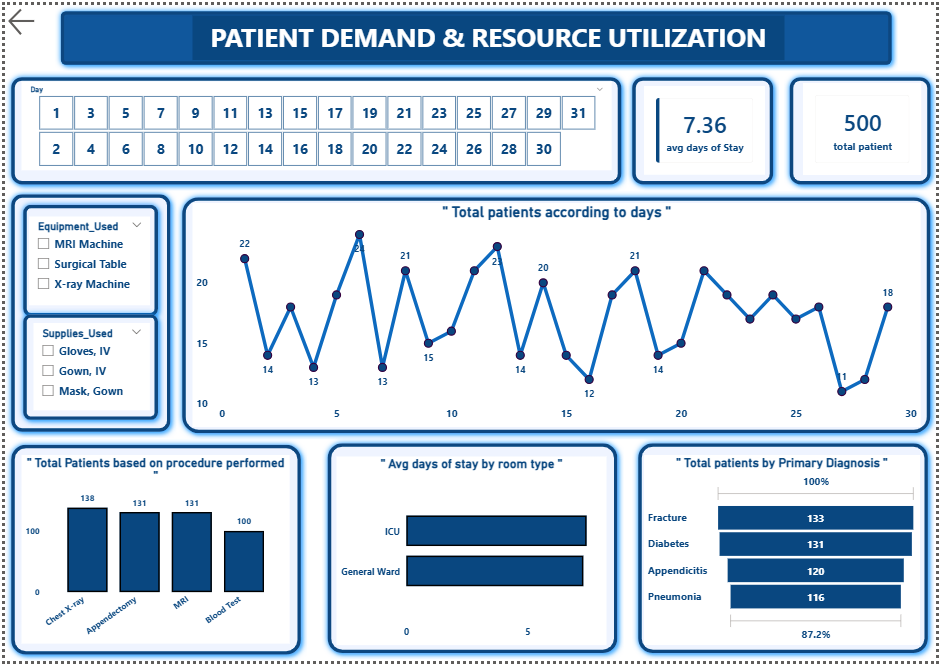

This screenshot's page, from the dashboard's own definition file:
{"tool":"powerbi","page":{"name":"Patient","canvas":[1350,950],"ordinal":2},"visuals":[{"type":"shape","box":[0,264.4,248.9,362.2],"z":0},{"type":"shape","box":[908.9,626.7,437.8,322.2],"z":1000},{"type":"shape","box":[457.8,626.7,437.8,322.2],"z":2000},{"type":"shape","box":[0,628.9,437.8,322.2],"z":3000},{"type":"shape","box":[248.9,268.9,1102.2,360],"z":4000},{"type":"shape","box":[1128.9,95.6,222.2,173.3],"z":5000},{"type":"shape","box":[900,95.6,222.2,173.3],"z":6000},{"type":"shape","box":[0,95.6,902.2,173.3],"z":7000},{"type":"cardVisual","fields":{"Data":["Petient_data.total patient"]},"box":[1155.6,113.3,171.1,133.3],"z":8000},{"type":"cardVisual","fields":{"Data":["Petient_data.avg days of Stay"]},"box":[926.7,117.8,175.6,128.9],"z":9000},{"type":"columnChart","title":"\" Total Patients based on procedure performed \"","fields":{"Category":["Petient_data.Procedure_Performed"],"Y":["Petient_data.total patient"]},"box":[24.4,651.1,388.9,273.3],"z":10000},{"type":"barChart","title":"\" Avg days of stay by room type \"","fields":{"Category":["Petient_data.Room_Type"],"Y":["Petient_data.avg days of Stay"]},"box":[480,653.3,391.1,273.3],"z":11000},{"type":"funnel","title":" \" Total patients by Primary Diagnosis \"","fields":{"Category":["Petient_data.Primary_Diagnosis"],"Y":["Petient_data.total patient"]},"box":[926.7,651.1,400,275.6],"z":12000},{"type":"lineChart","title":"\" Total patients according to days \"","fields":{"Y":["Petient_data.total patient"],"Category":["Petient_data.Admission_Date.Variation.Date Hierarchy.Day"]},"box":[271.1,286.7,1055.6,324.4],"z":13000},{"type":"slicer","fields":{"Values":["Petient_data.Admission_Date.Variation.Date Hierarchy.Day"]},"box":[24.4,111.1,855.6,128.9],"z":14000},{"type":"shape","box":[17.8,280,213.3,180],"z":15000},{"type":"shape","box":[17.8,440,213.3,171.1],"z":16000},{"type":"slicer","fields":{"Values":["Petient_data.Supplies_Used"]},"box":[42.2,460,168.9,126.7],"z":17000},{"type":"slicer","fields":{"Values":["Petient_data.Equipment_Used"]},"box":[35.6,306.7,175.6,128.9],"z":18000},{"type":"shape","box":[71.1,0,1222.2,95.6],"z":19000},{"type":"textbox","box":[271.1,15.6,857.8,64.4],"z":20000},{"type":"actionButton","box":[0,0,71.1,48.9],"z":21000}]}

Visuals, with their boxes in screenshot pixels (x1, y1, x2, y2), scaled from the page's 1350x950 canvas onto the 942x667 screenshot:
shape: region(0, 186, 174, 440)
shape: region(634, 440, 940, 666)
shape: region(319, 440, 625, 666)
shape: region(0, 442, 305, 666)
shape: region(174, 189, 941, 442)
shape: region(788, 67, 941, 189)
shape: region(628, 67, 783, 189)
shape: region(0, 67, 630, 189)
cardVisual - Petient_data.total patient: region(806, 80, 926, 173)
cardVisual - Petient_data.avg days of Stay: region(647, 83, 769, 173)
"" Total Patients based on procedure performed "" columnChart: region(17, 457, 288, 649)
"" Avg days of stay by room type "" barChart: region(335, 459, 608, 651)
" " Total patients by Primary Diagnosis "" funnel: region(647, 457, 926, 651)
"" Total patients according to days "" lineChart: region(189, 201, 926, 429)
slicer - Petient_data.Admission_Date.Variation.Date Hierarchy.Day: region(17, 78, 614, 169)
shape: region(12, 197, 161, 323)
shape: region(12, 309, 161, 429)
slicer - Petient_data.Supplies_Used: region(29, 323, 147, 412)
slicer - Petient_data.Equipment_Used: region(25, 215, 147, 306)
shape: region(50, 0, 902, 67)
textbox: region(189, 11, 788, 56)
actionButton: region(0, 0, 50, 34)
